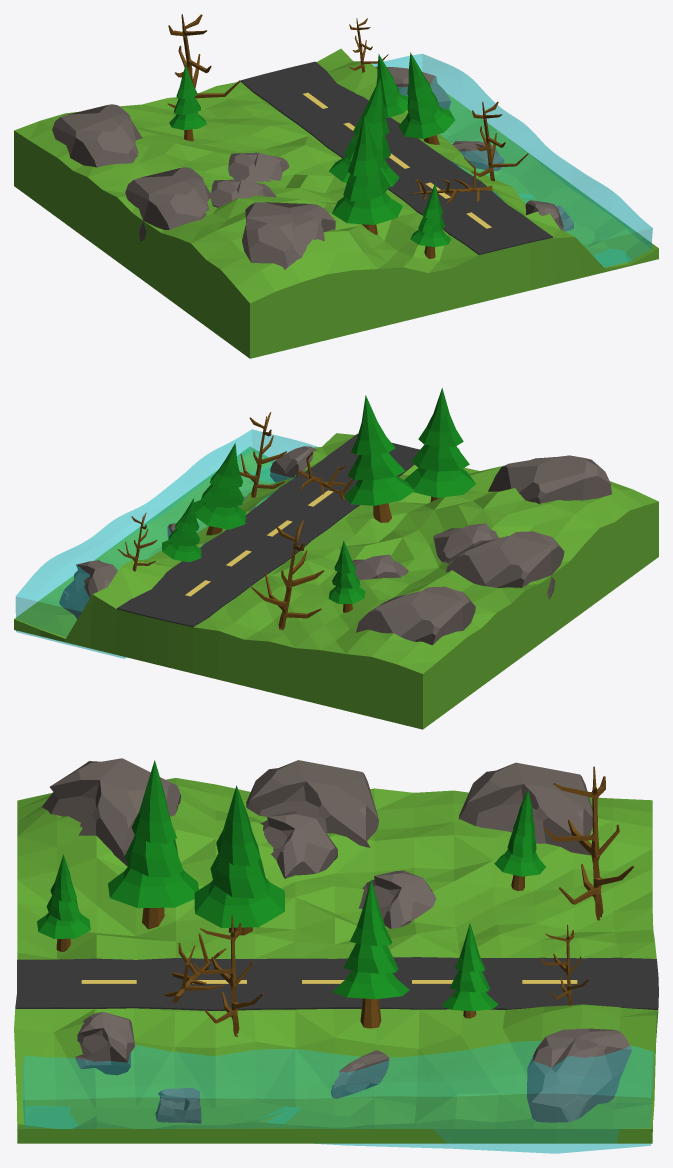
Rendered from tree0807.glb.
3 views of the same model, one above another, from view 1: azimuth 30°, elevation 25°; view 2: azimuth 150°, elevation 25°; view 3: azimuth 270°, elevation 25° (orthographic). The views are drawn at different scales.
Visible parts, largest first — view 1: merged_trees5; view 2: merged_trees5; view 3: merged_trees5.
Boxes of the visible parts, x1,y1,x2,y2 form: merged_trees5: [14, 14, 658, 358]; merged_trees5: [14, 388, 658, 729]; merged_trees5: [14, 758, 658, 1153].
Size of the model in its own units: 8.06 by 3.32 by 8.05.
